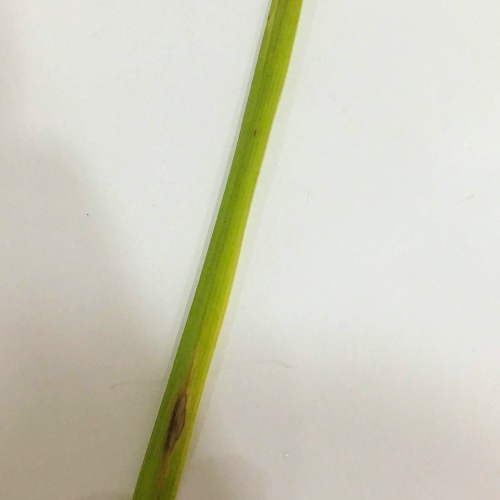Busuk Leher: (149, 386, 209, 466)
